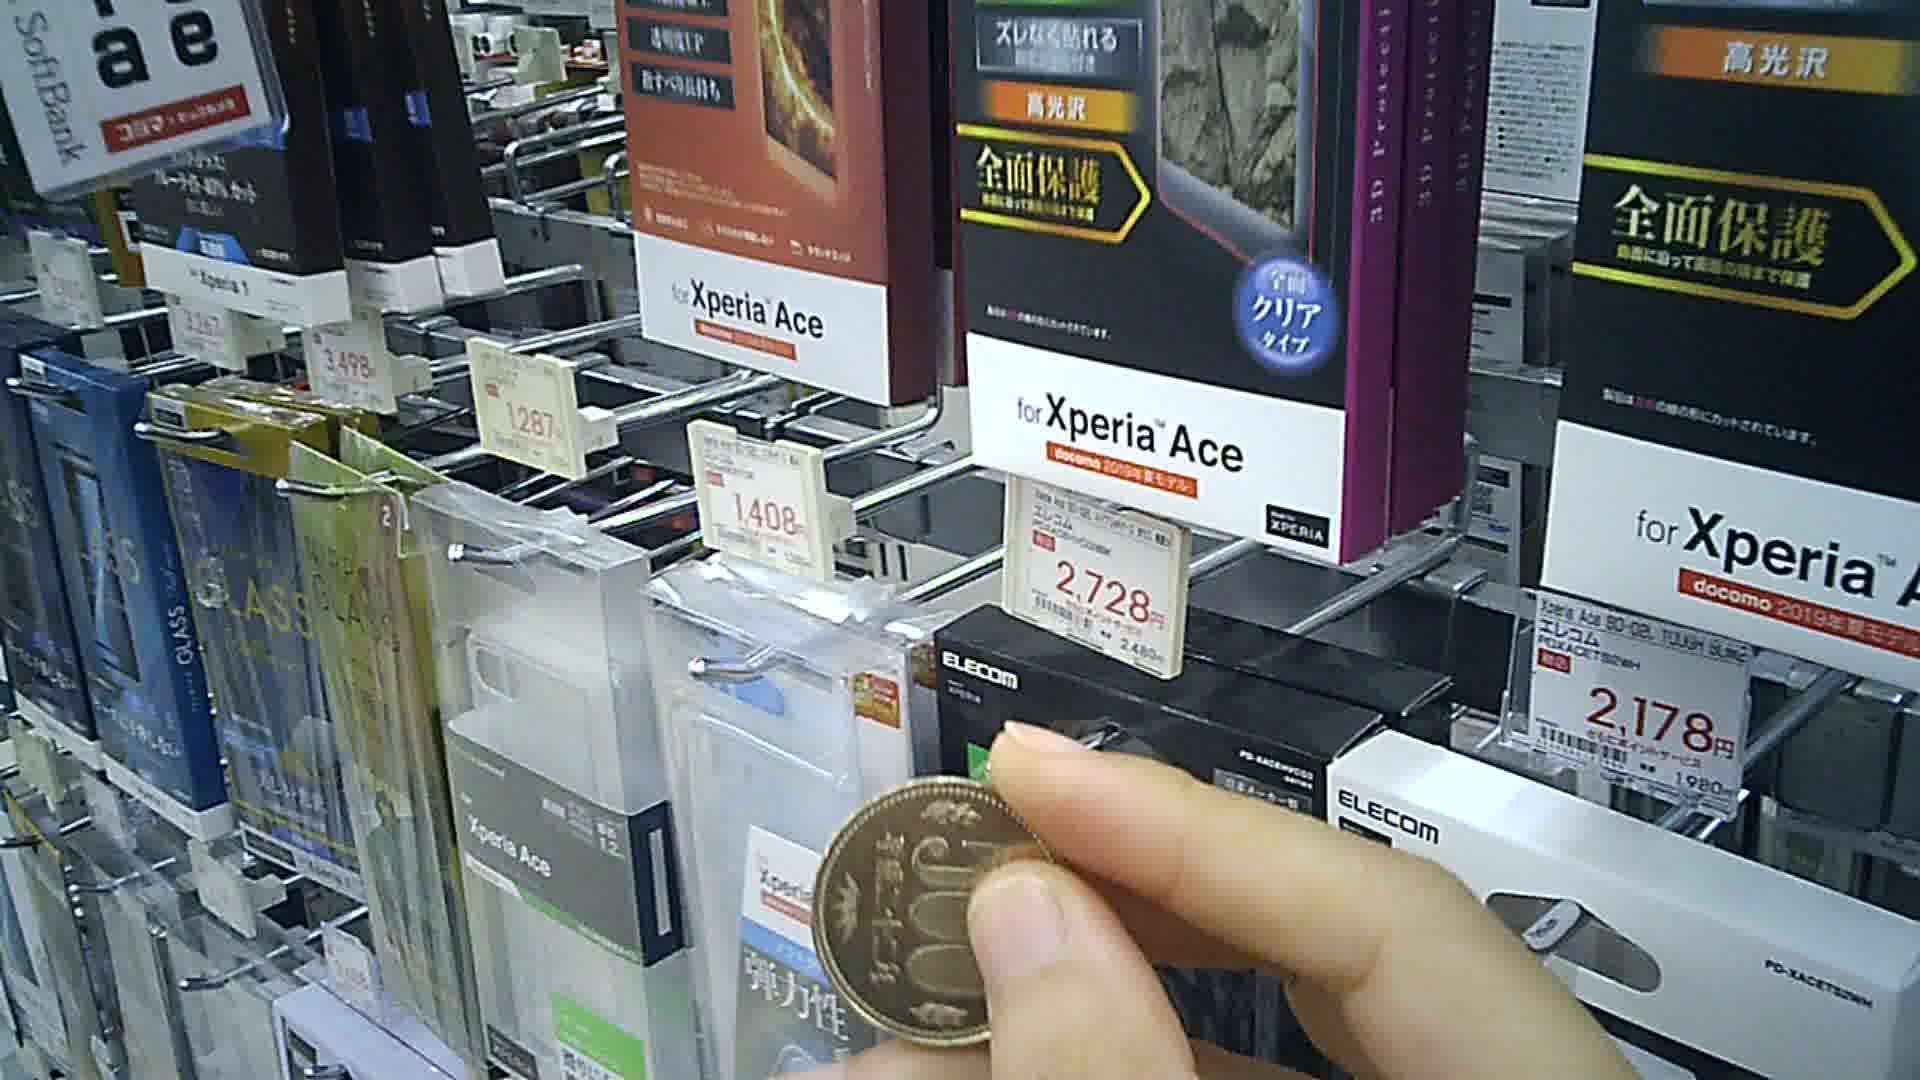500 Yen: (802, 775, 1069, 1044)
